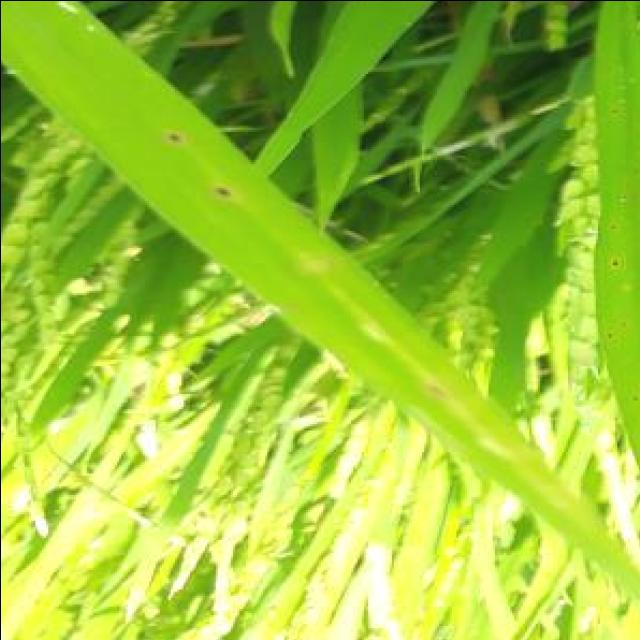Brown_Spot: (159, 126, 193, 152), (210, 180, 240, 208), (606, 258, 630, 275), (612, 316, 632, 333), (601, 331, 621, 344), (627, 393, 640, 410), (606, 221, 620, 236)
